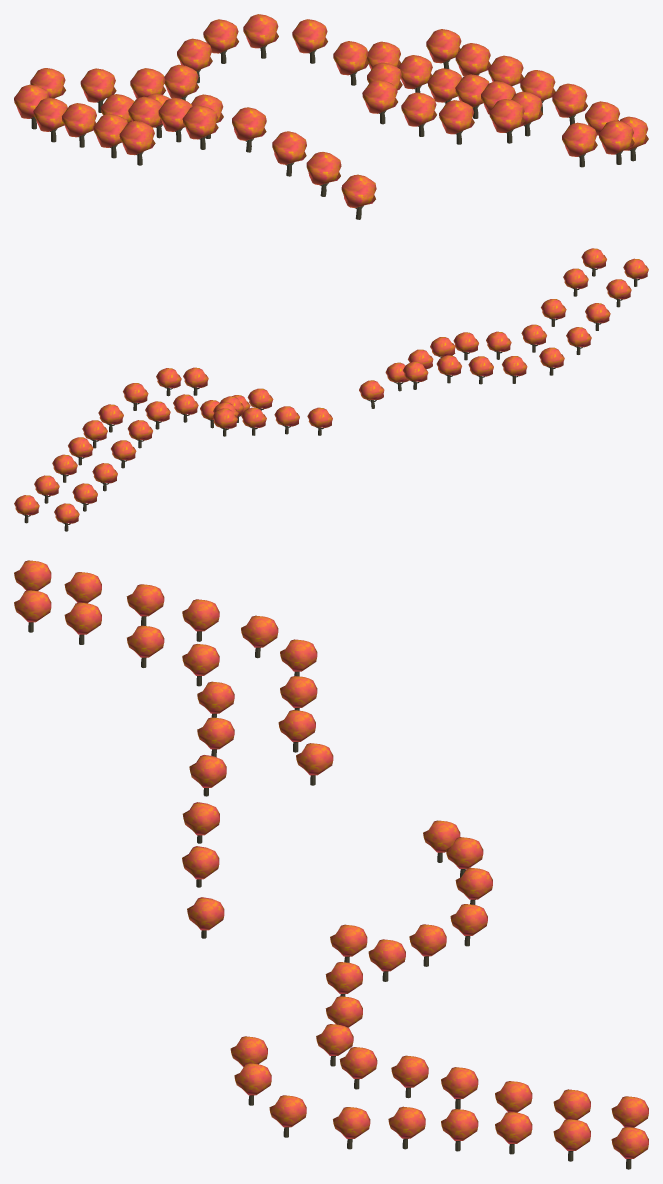
The model's file is Trees.fbx.
3 views of the same model, one above another, from view 1: azimuth 30°, elevation 25°; view 2: azimuth 150°, elevation 25°; view 3: azimuth 270°, elevation 25° (orthographic). The views are drawn at different scales.
Parts seen in each view (by area): view 1: pCylinder44, pCylinder49, pCylinder59, pCylinder29, pCylinder43, pCylinder50, pCylinder58, pCylinder22, pCylinder45, pCylinder48, pCylinder47, pCylinder32 (+31 smaller); view 2: pCylinder23, pCylinder56, pCylinder50, pCylinder51, pCylinder28, pCylinder57, pCylinder64, pCylinder58, pCylinder59, pCylinder36, pCylinder25, pCylinder60 (+25 smaller); view 3: pCylinder34, pCylinder35, pCylinder32, pCylinder33, pCylinder29, pCylinder46, pCylinder60, pCylinder27, pCylinder36, pCylinder62, pCylinder63, pCylinder40 (+32 smaller).
Boxes of the visible parts, box(x1,y1,x2,y2) form: pCylinder44: box(292, 19, 327, 63); pCylinder49: box(439, 100, 474, 144); pCylinder59: box(599, 120, 634, 164); pCylinder29: box(182, 105, 218, 149); pCylinder43: box(243, 14, 278, 58); pCylinder50: box(489, 99, 525, 143); pCylinder58: box(562, 122, 597, 167); pCylinder22: box(119, 121, 155, 165); pCylinder45: box(333, 41, 368, 85); pCylinder48: box(401, 92, 436, 136); pCylinder47: box(362, 79, 397, 124); pCylinder32: box(232, 107, 266, 152); pCylinder23: box(606, 279, 631, 307); pCylinder56: box(54, 503, 79, 531); pCylinder50: box(173, 394, 198, 422); pCylinder51: box(145, 401, 170, 429); pCylinder28: box(563, 268, 588, 296); pCylinder57: box(34, 475, 59, 503); pCylinder64: box(14, 495, 39, 523); pCylinder58: box(183, 367, 208, 395); pCylinder59: box(156, 368, 181, 396); pCylinder36: box(539, 347, 564, 375); pCylinder25: box(566, 327, 591, 354); pCylinder60: box(98, 404, 123, 432); pCylinder34: box(182, 846, 219, 887); pCylinder35: box(187, 897, 224, 938); pCylinder32: box(189, 755, 226, 796); pCylinder33: box(182, 802, 219, 843); pCylinder29: box(14, 590, 51, 632); pCylinder46: box(368, 939, 405, 981); pCylinder60: box(333, 1107, 370, 1149); pCylinder27: box(127, 625, 164, 667); pCylinder36: box(241, 615, 278, 658); pCylinder62: box(441, 1109, 478, 1151); pCylinder63: box(495, 1112, 532, 1154); pCylinder40: box(296, 743, 333, 785).
Bounding box in the file's own units: 407 × 190 × 348.
1 material, 1 textured.
